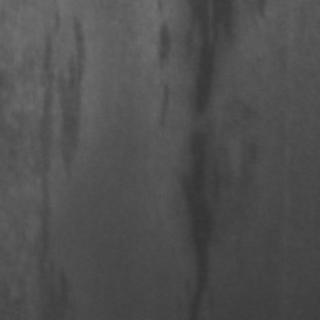inclusion: (15, 8, 83, 300), (175, 0, 229, 318), (146, 15, 180, 136)
